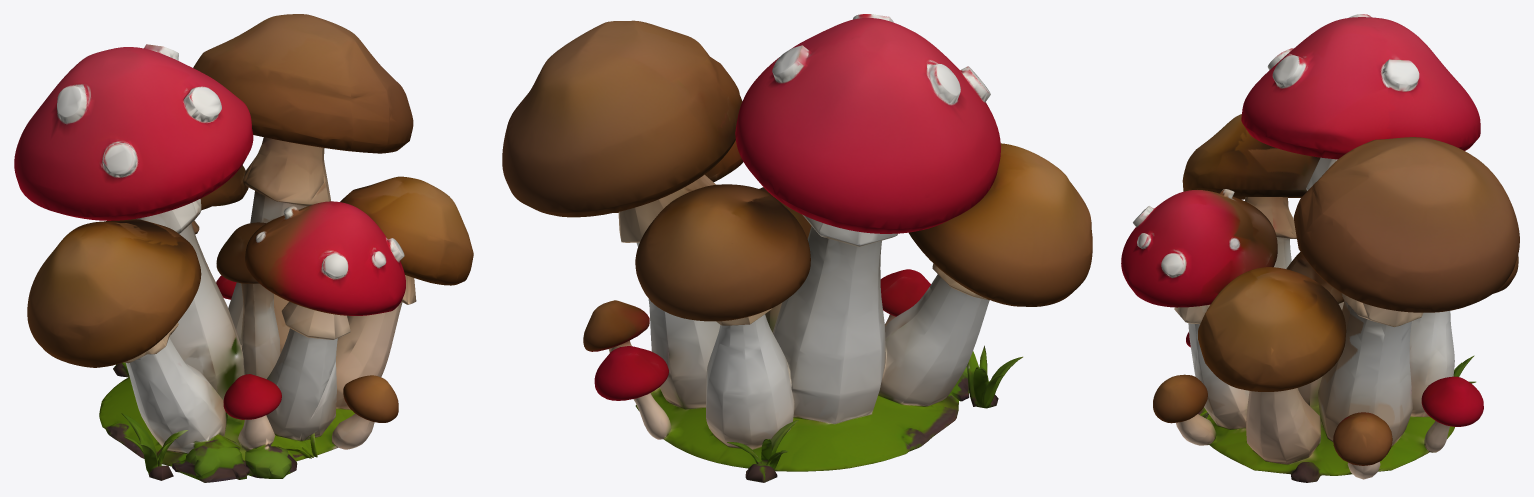
Rendered from mushrooms-a.glb.
3 views of the same model, side by side, from view 1: azimuth 30°, elevation 25°; view 2: azimuth 150°, elevation 25°; view 3: azimuth 270°, elevation 25° (orthographic). The views are drawn at different scales.
Parts seen in each view (by area): view 1: node_0; view 2: node_0; view 3: node_0.
Part boxes in pixels (left/top/right/bottom): node_0: left=14, top=14, right=473, bottom=482; node_0: left=502, top=14, right=1092, bottom=482; node_0: left=1121, top=14, right=1519, bottom=482.
Bounding box in the file's own units: 1.06 × 0.8856 × 0.8907.
Materials: 1 (1 with a texture image).
